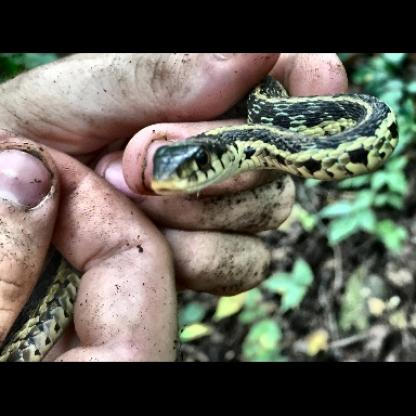Snake: (147, 70, 405, 201)
